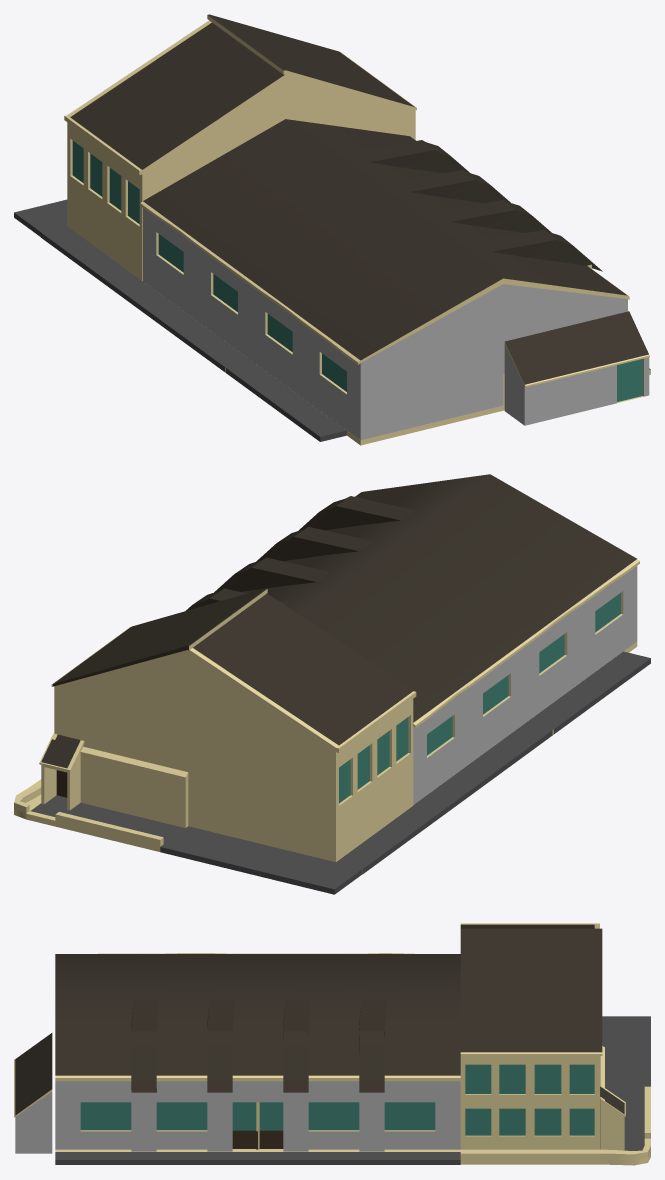
Rendered from HouseBlock3.fbx.
3 views of the same model, one above another, from view 1: azimuth 30°, elevation 25°; view 2: azimuth 150°, elevation 25°; view 3: azimuth 270°, elevation 25° (orthographic). The views are drawn at different scales.
Parts seen in each view (by area): view 1: pCube5; view 2: pCube5; view 3: pCube5.
Part boxes in pixels (x1,y1,x2,y2): pCube5: [14, 14, 650, 445]; pCube5: [14, 474, 650, 894]; pCube5: [14, 923, 650, 1165].
Size of the model in its own units: 26.95 by 14.64 by 50.19.
